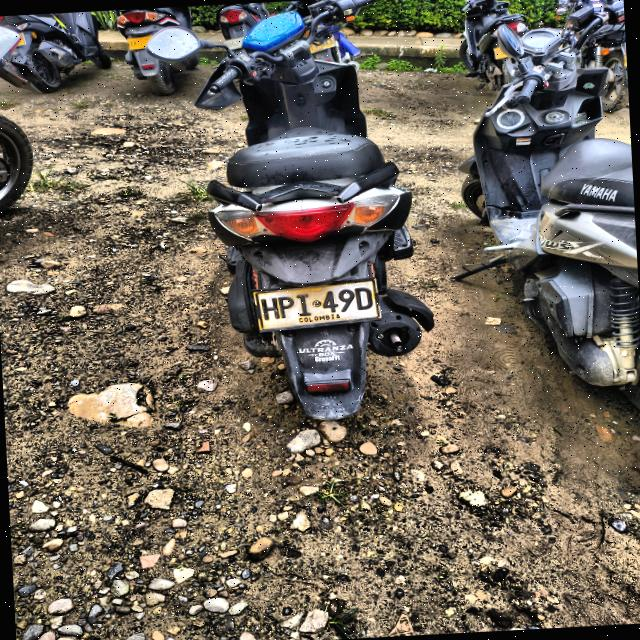4: (320, 290, 341, 314)
9: (336, 288, 356, 313)
D: (353, 286, 375, 312)
H: (259, 296, 282, 321)
I: (294, 293, 314, 317)
P: (277, 294, 298, 320)
